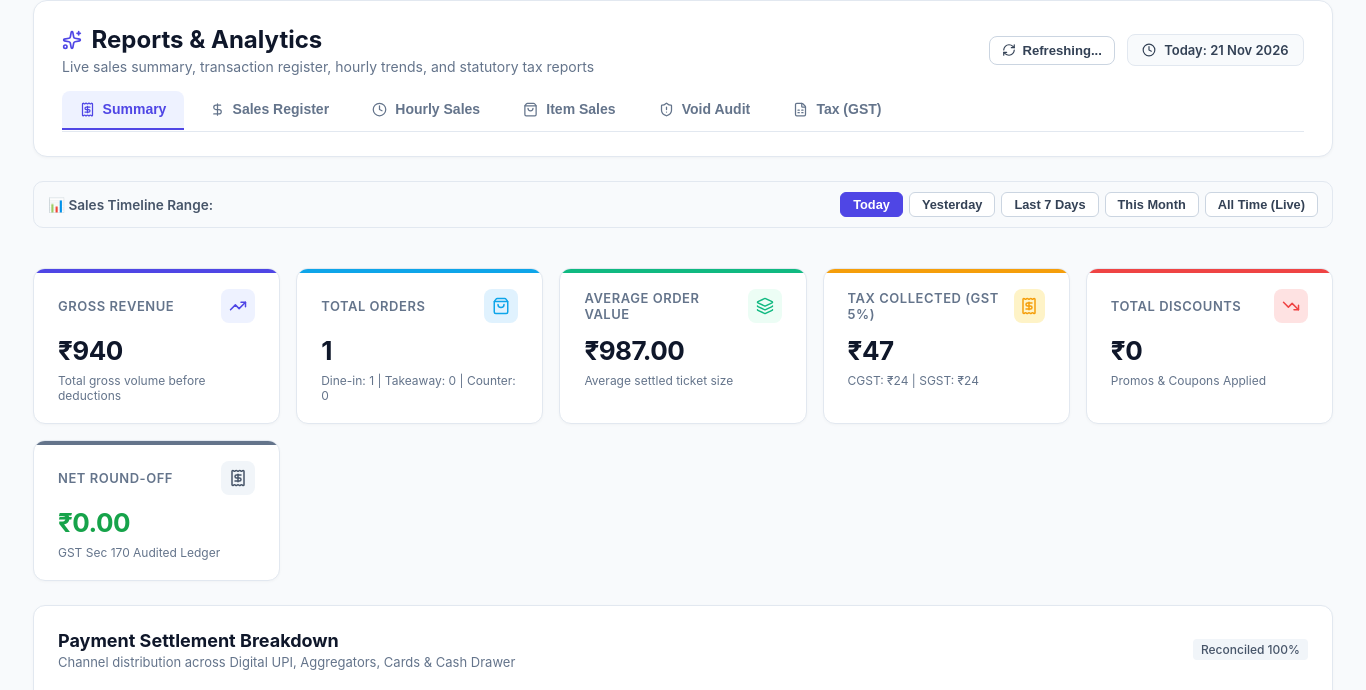
Scenario: ReportsDashboard Component › navigates to View D: Anti-Fraud Void Audit Log and displays security banner
// Click Void Log tab
Click the button "Void Audit": (704, 110) [641,91,768,130]
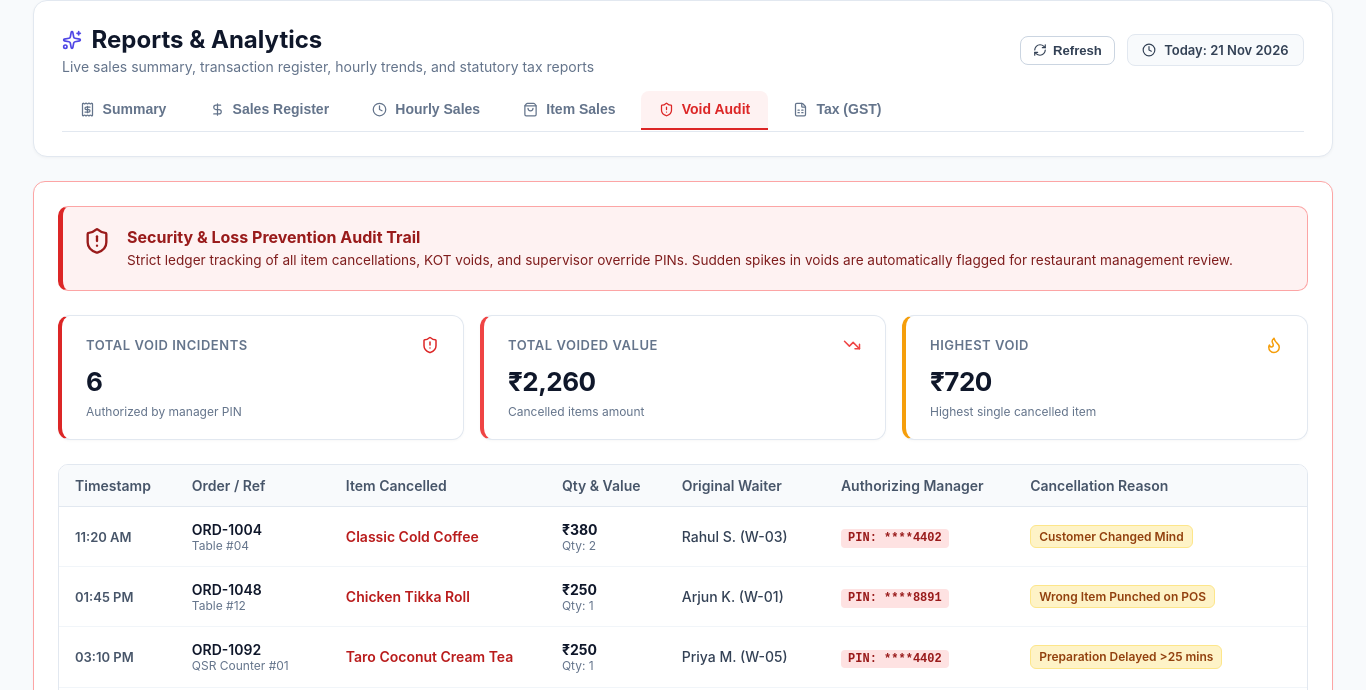
Now the heading "Security & Loss Prevention Audit Trail" is shown, box [127,227,420,247]
Now the text "Total Void Incidents" is shown, box [86,337,248,353]
